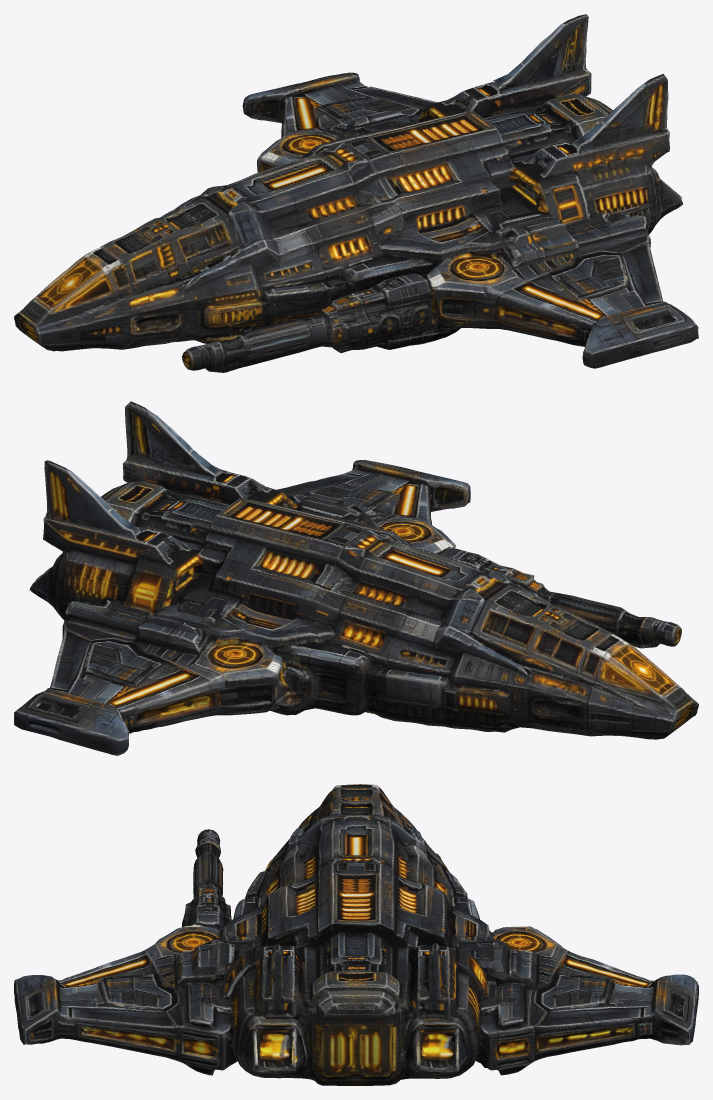
File: tracker.glb
The picture shows the model from 3 angles, top to bottom: view 1: azimuth 30°, elevation 25°; view 2: azimuth 150°, elevation 25°; view 3: azimuth 270°, elevation 25°; orthographic projection. The views are drawn at different scales.
Parts seen in each view (by area): view 1: Mesh0; view 2: Mesh0; view 3: Mesh0.
Part boxes in pixels (x1,y1,x2,y2): Mesh0: (14, 14, 698, 372); Mesh0: (14, 401, 698, 755); Mesh0: (14, 784, 698, 1085).
Bounding box in the file's own units: 1.9 × 0.5428 × 1.91.
Materials: 1 (1 with a texture image).
